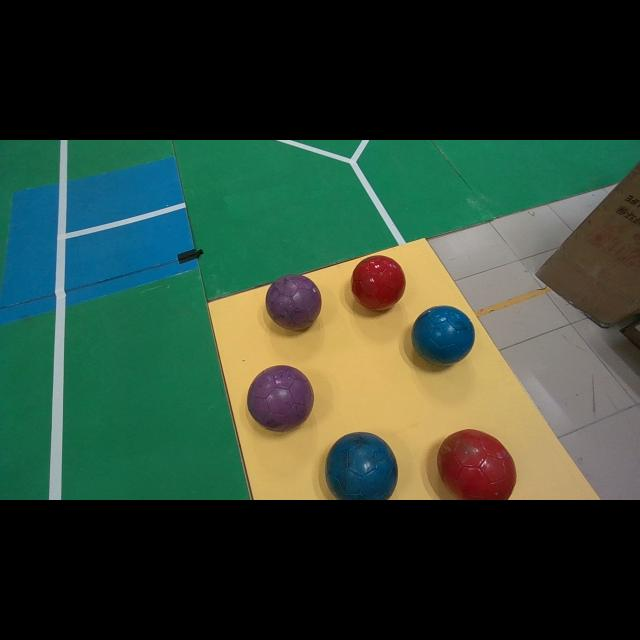B: (325, 432, 398, 500), (412, 305, 475, 365)
P: (248, 365, 314, 431), (265, 275, 321, 329)
R: (438, 430, 516, 499), (351, 255, 405, 311)
